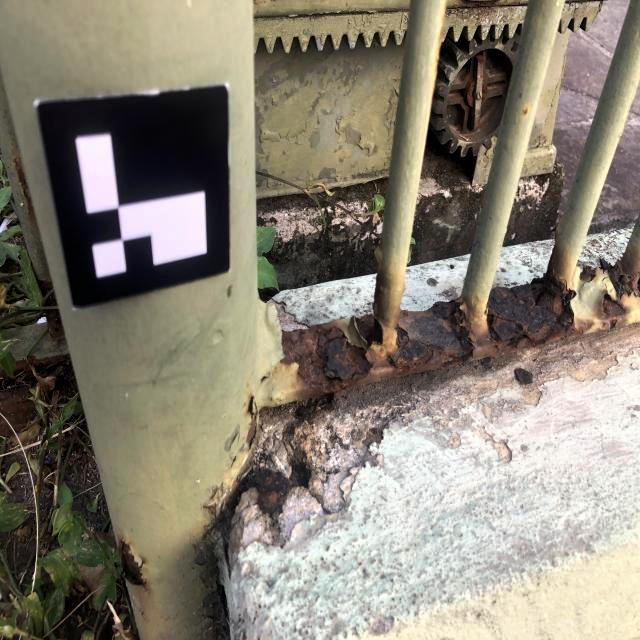Corrosion: (281, 243, 592, 400), (598, 257, 640, 301), (0, 387, 36, 438), (118, 535, 148, 586), (597, 286, 629, 332), (12, 158, 34, 220), (15, 353, 69, 371), (435, 0, 447, 75), (245, 396, 258, 444), (44, 310, 65, 338), (225, 479, 242, 509), (580, 263, 597, 283), (464, 77, 475, 107), (200, 502, 218, 519), (37, 278, 52, 297), (210, 482, 225, 499), (481, 78, 488, 105), (44, 292, 57, 306), (474, 54, 483, 72), (260, 374, 266, 382), (523, 108, 528, 115), (0, 370, 5, 375), (505, 0, 508, 4)
